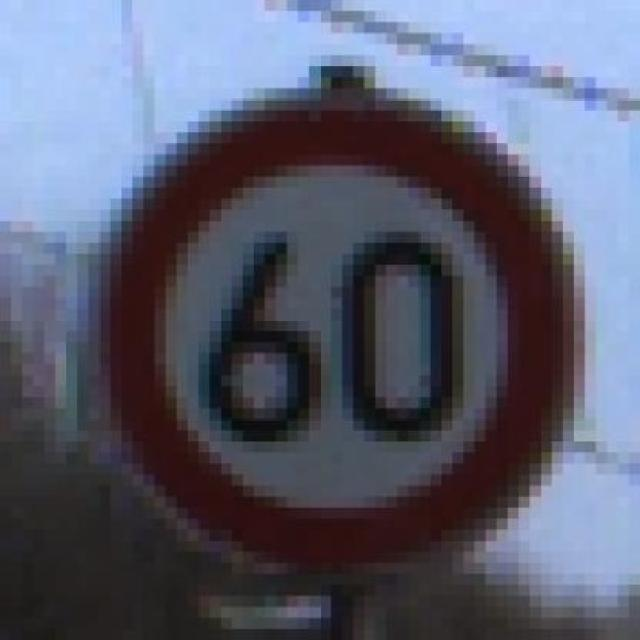forb_speed_over_60: (113, 111, 558, 558)
